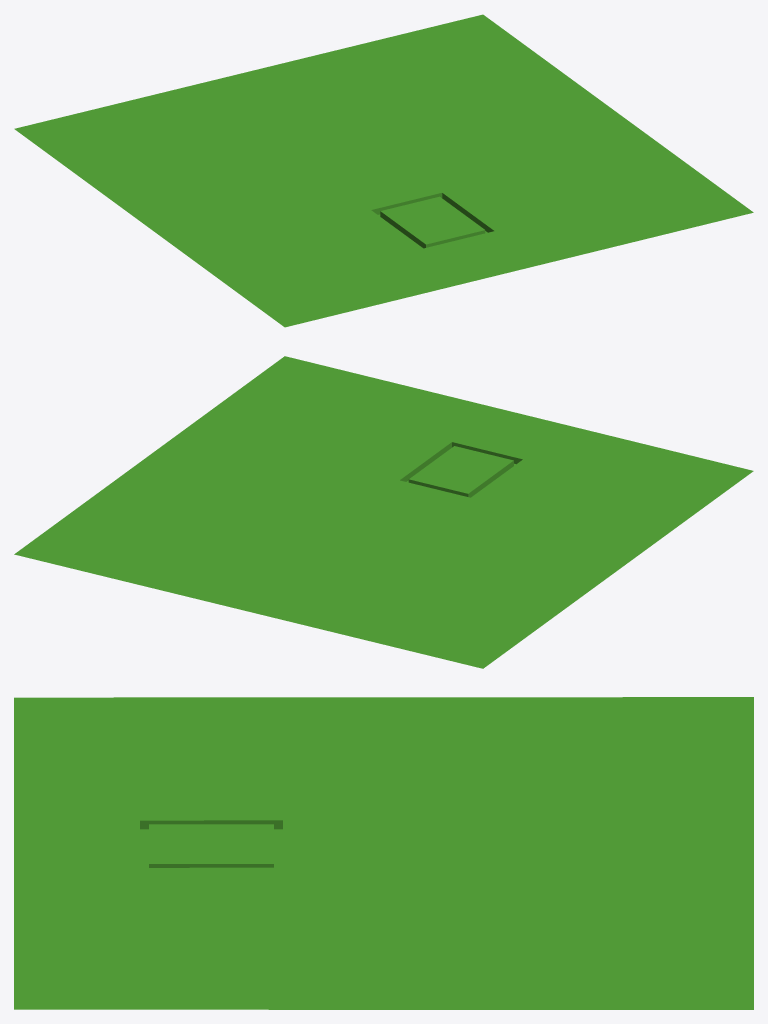
File: ground (2).fbx
The picture shows the model from 3 angles, top to bottom: view 1: azimuth 30°, elevation 25°; view 2: azimuth 150°, elevation 25°; view 3: azimuth 270°, elevation 25°; orthographic projection. The views are drawn at different scales.
Parts seen in each view (by area): view 1: low poly; view 2: low poly; view 3: low poly.
Part boxes in pixels (x1,y1,x2,y2): low poly: [14, 14, 753, 327]; low poly: [14, 356, 753, 668]; low poly: [14, 697, 753, 1009].
Bounding box in the file's own units: 500 × 6.81 × 500.
